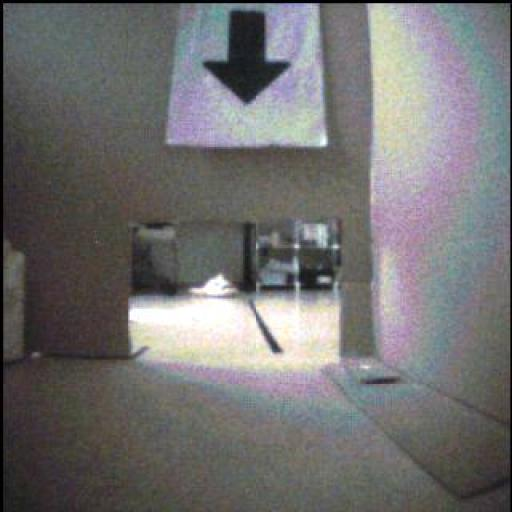arrow: (204, 12, 291, 105)
